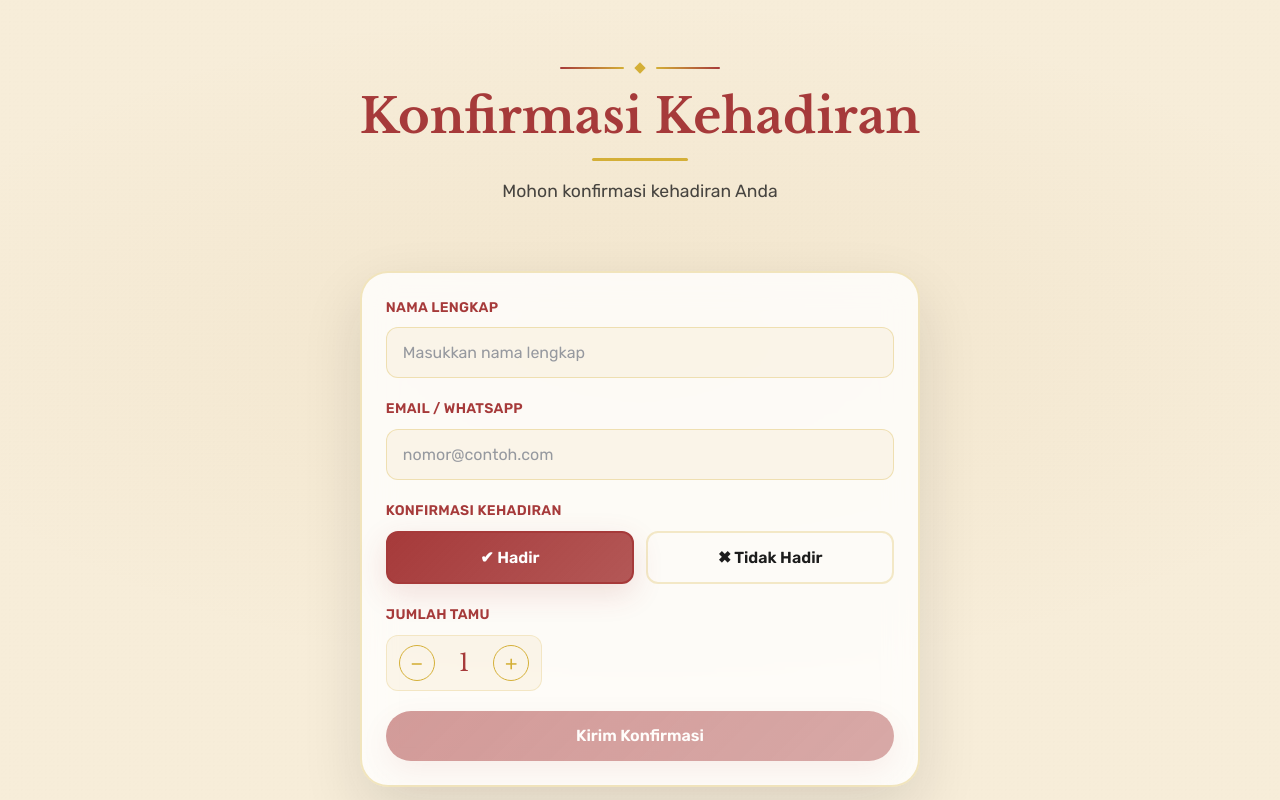
Test: RsvpComponent › should show error state on submission failure
The width and height of the screenshot is (1280, 800).
In the field with id "rsvp-name": (640, 353) [386,327,894,378], type "Test User"
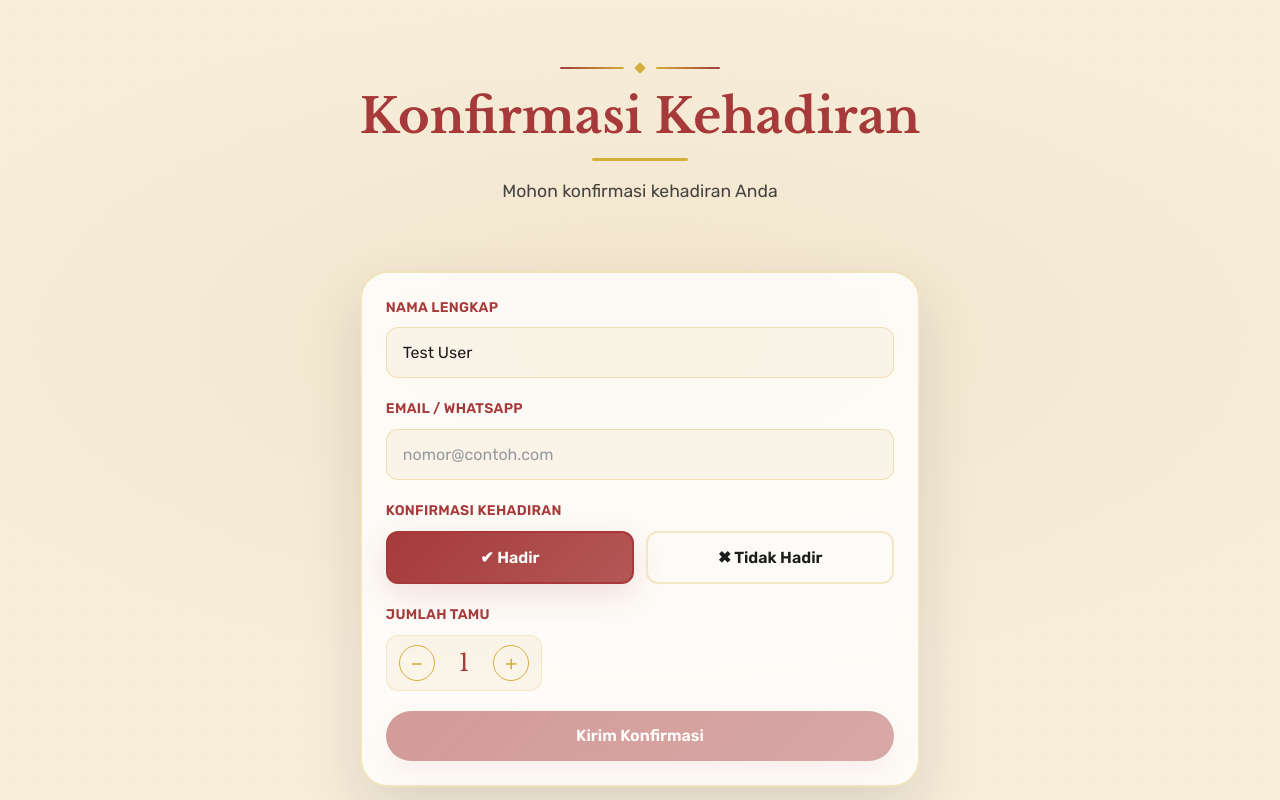
In the field with id "rsvp-email": (640, 455) [386,429,894,480], type "test@example.com"
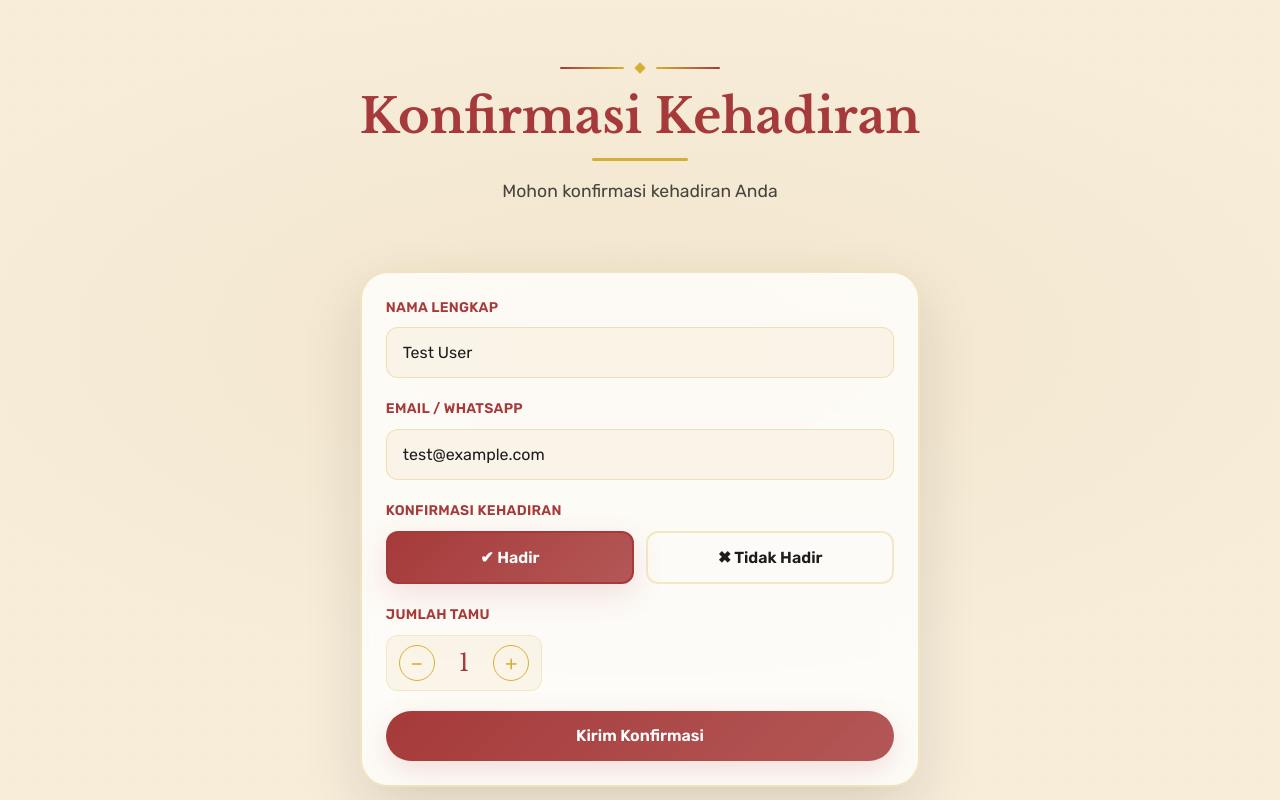
Click the button with class "rsvp__submit": (640, 736) [386,711,894,761]
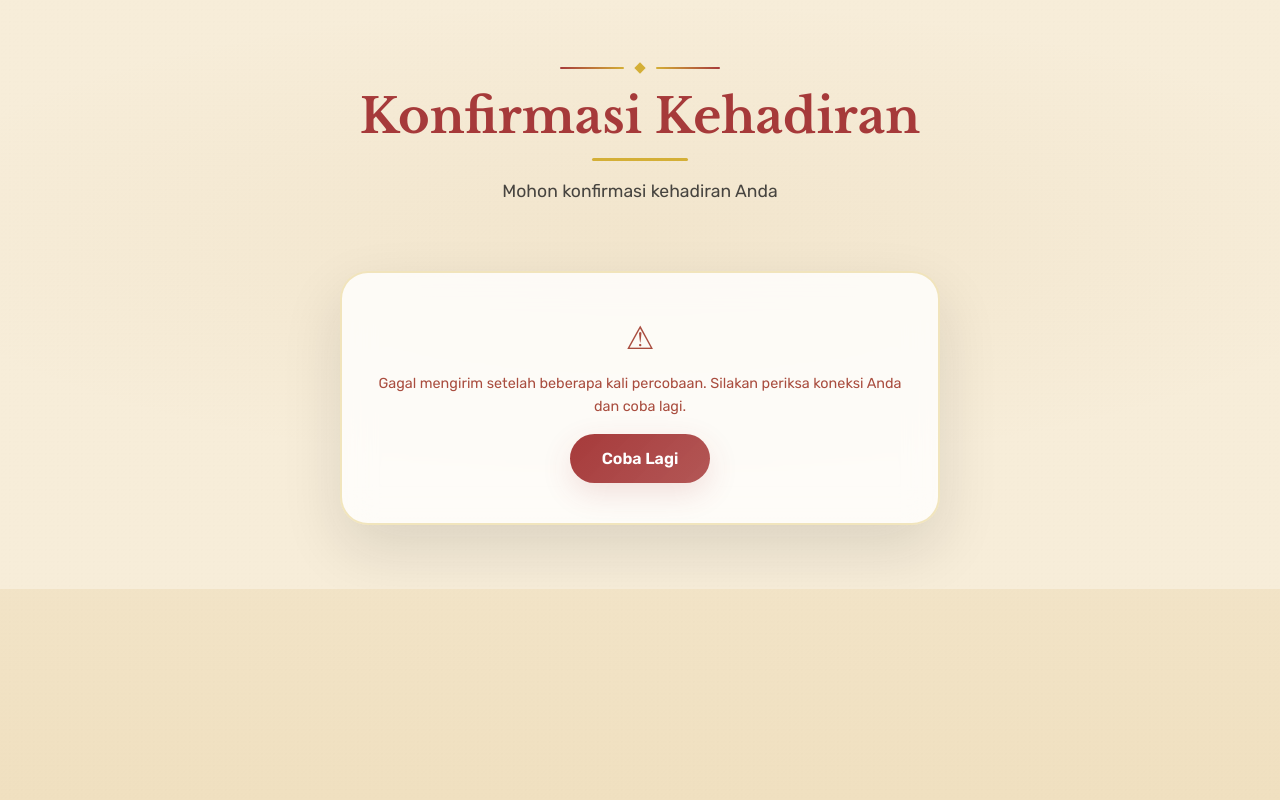
Check: the text with class "rsvp__error-text" is shown, box [366,372,914,418]
Check: the text with class "rsvp__error-text" shows "Gagal", box [378,375,902,415]
